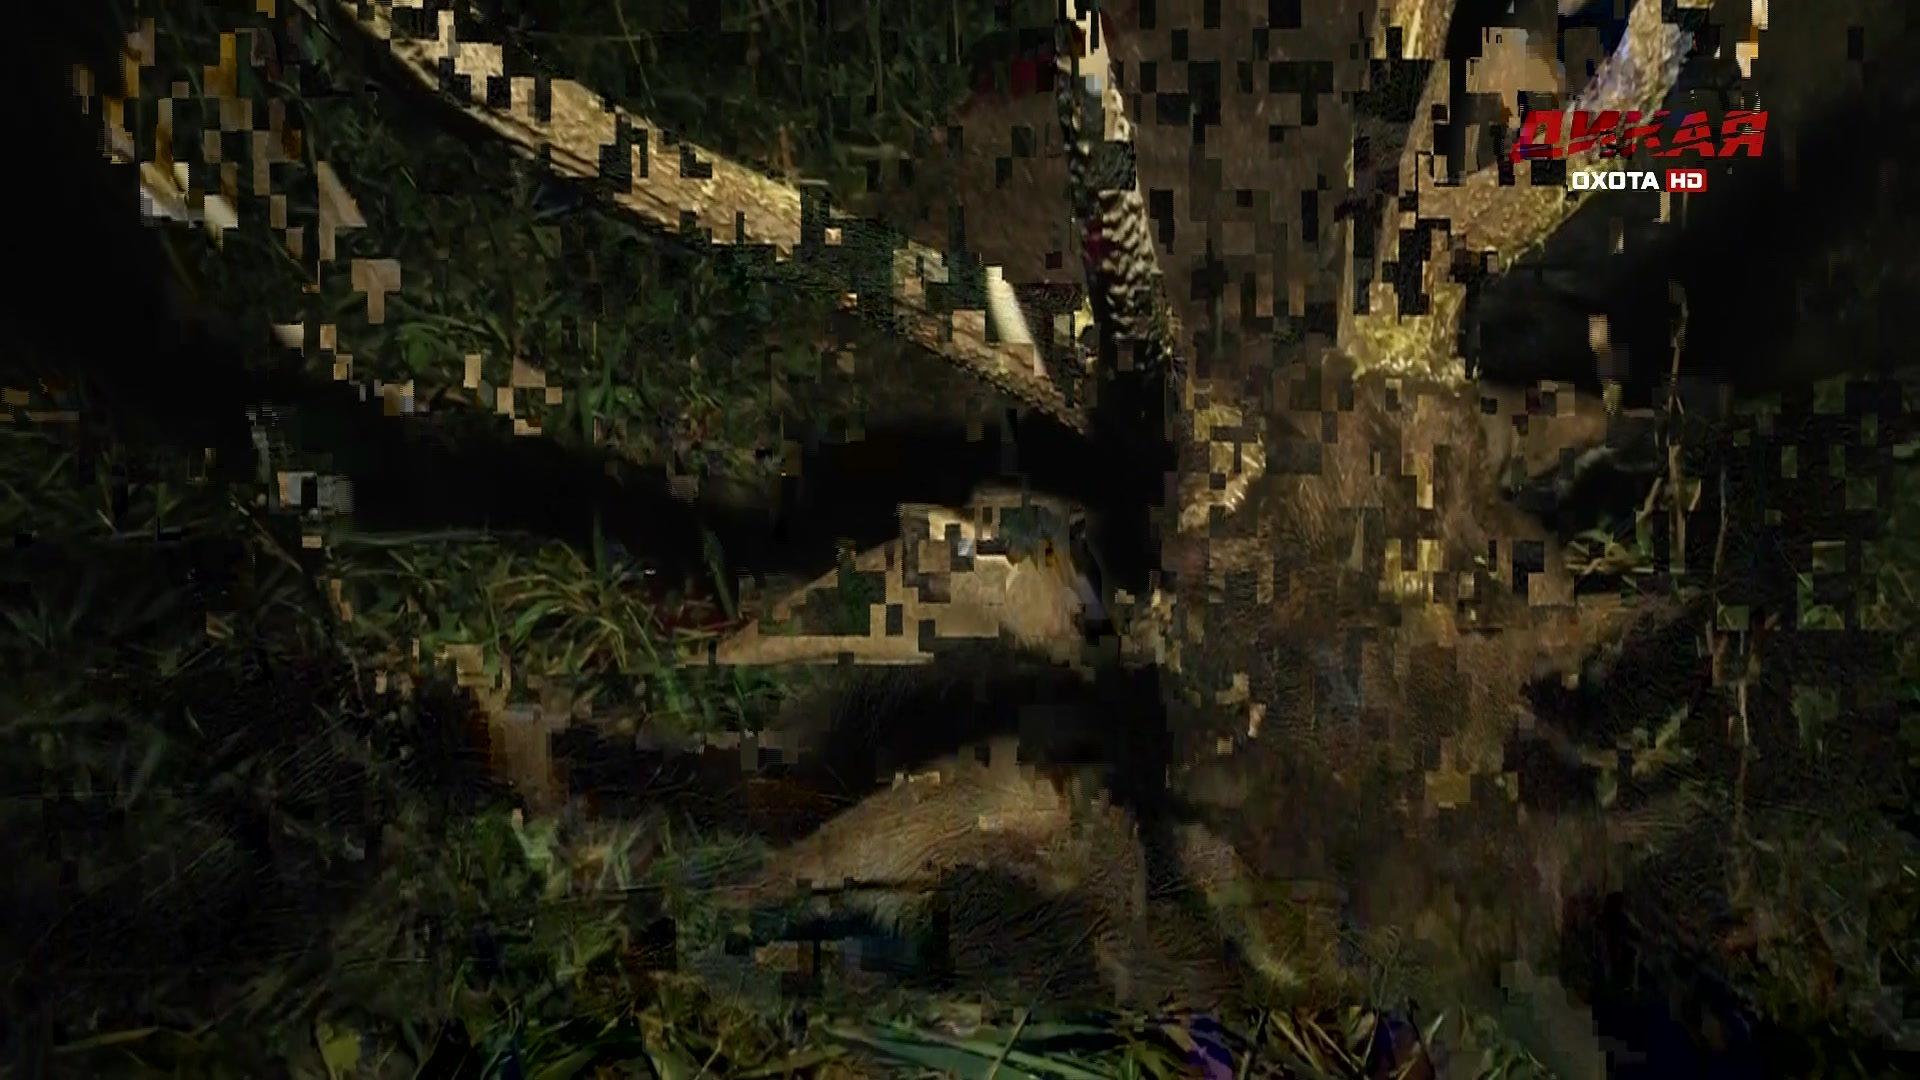Dikaya_Ohota_HD: (1503, 105, 1778, 194)
